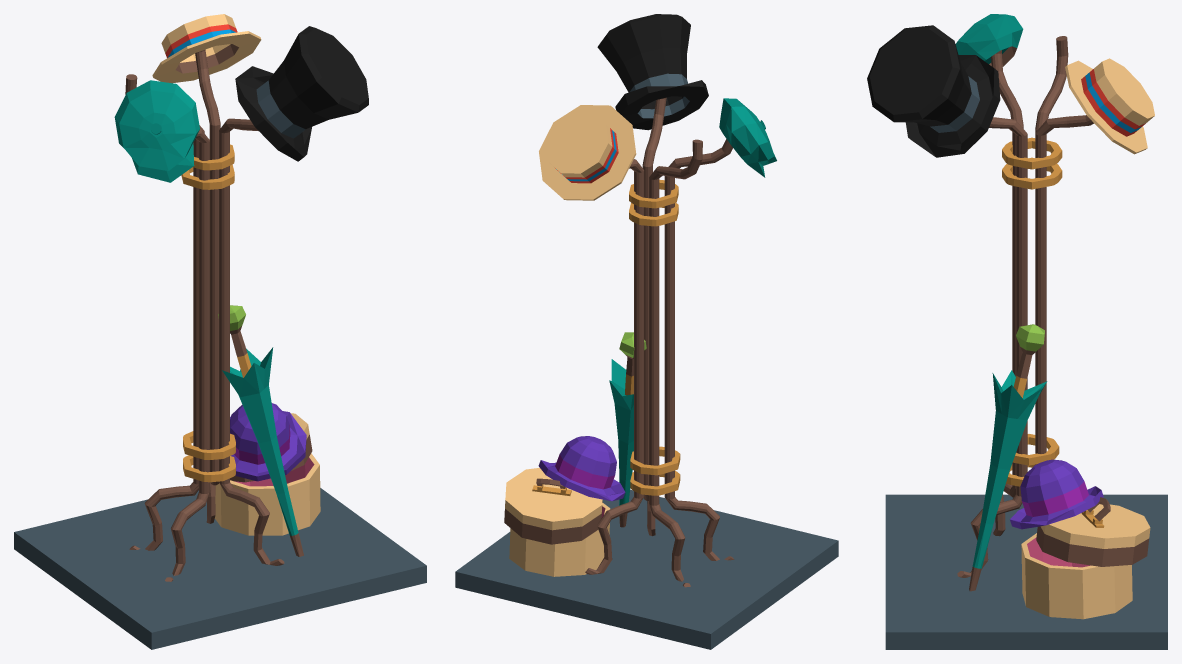
Rendered from Hat Rack.glb.
3 renders of one model, left to right at view 1: azimuth 30°, elevation 25°; view 2: azimuth 150°, elevation 25°; view 3: azimuth 270°, elevation 25°, orthographic. The views are drawn at different scales.
Parts seen in each view (by area): view 1: group1945589695; view 2: group1945589695; view 3: group1945589695.
Boxes of the visible parts, bbox=[...] form: group1945589695: bbox=[14, 14, 426, 649]; group1945589695: bbox=[455, 14, 838, 649]; group1945589695: bbox=[867, 14, 1167, 649].
Size of the model in its own units: 0.6488 by 1.26 by 0.5988.
